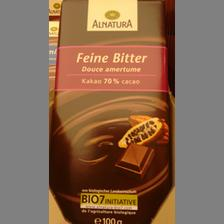Schokolade: (52, 0, 168, 224)
